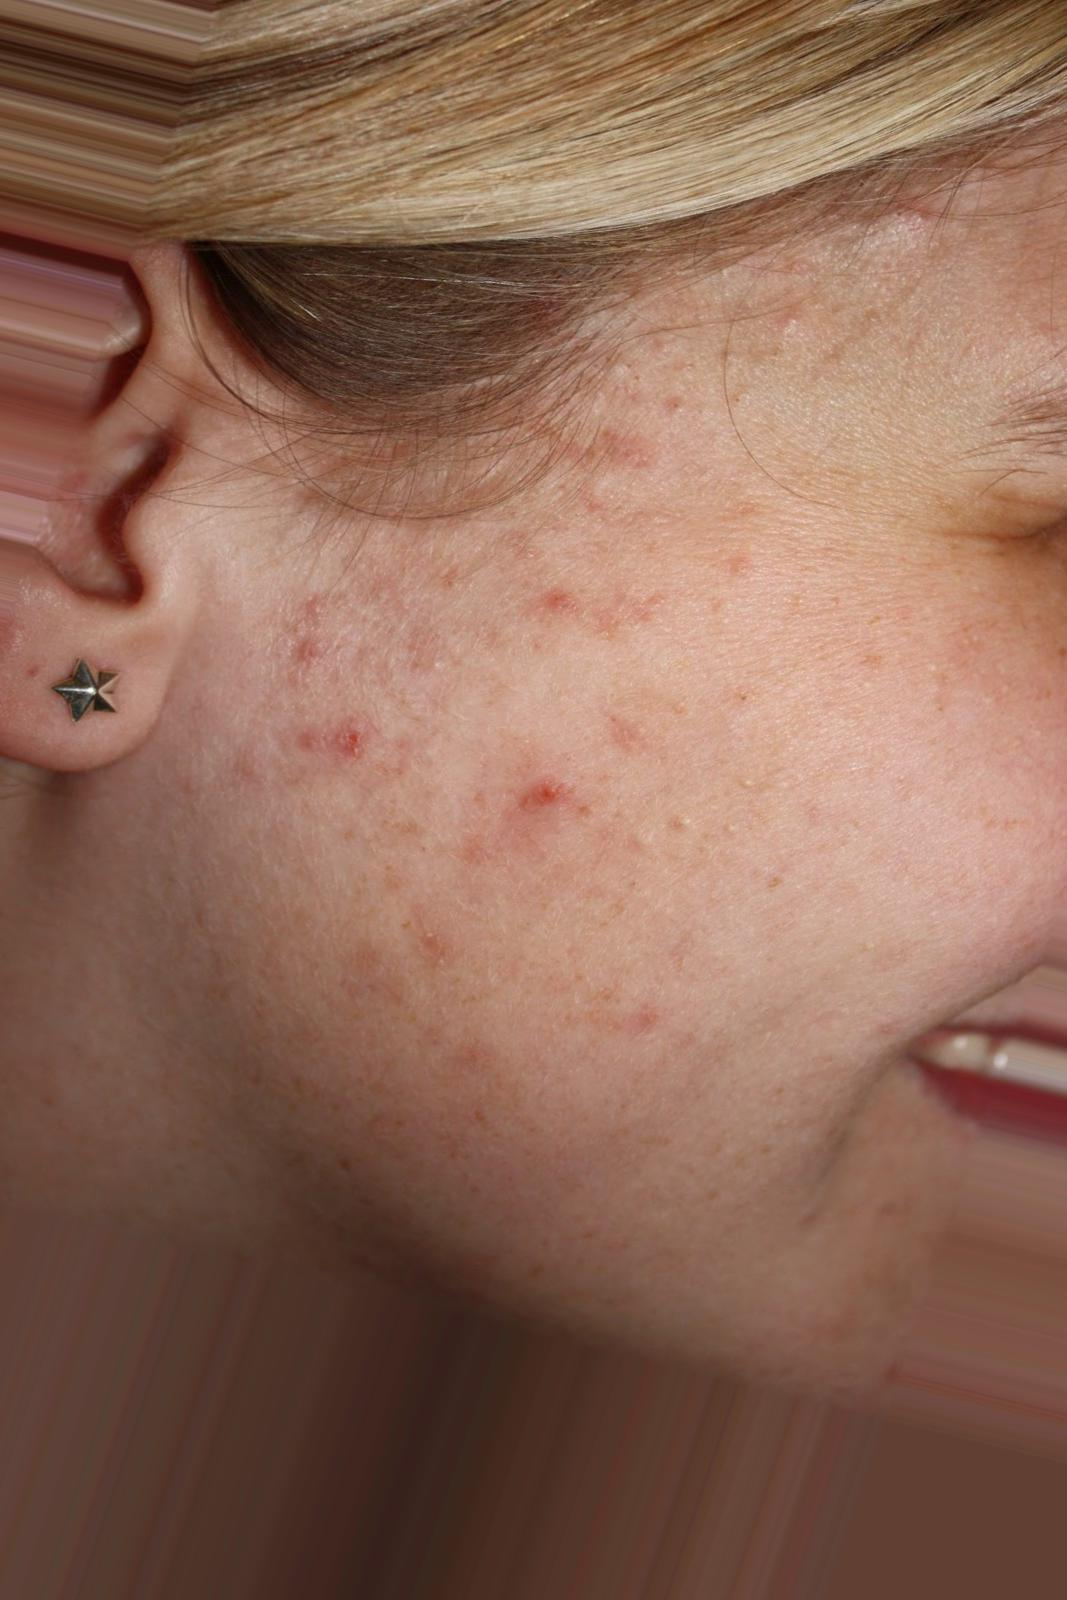Acne: (276, 687, 423, 874), (492, 771, 636, 904)
